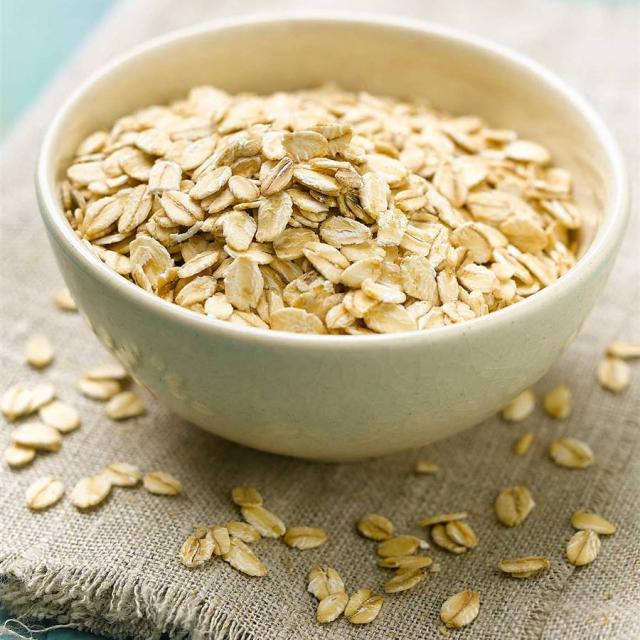avena: (37, 15, 639, 462)
